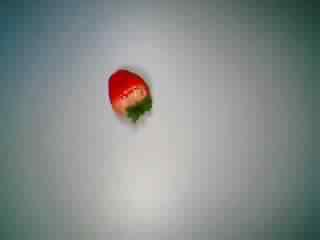strawberry: (101, 62, 167, 124)
